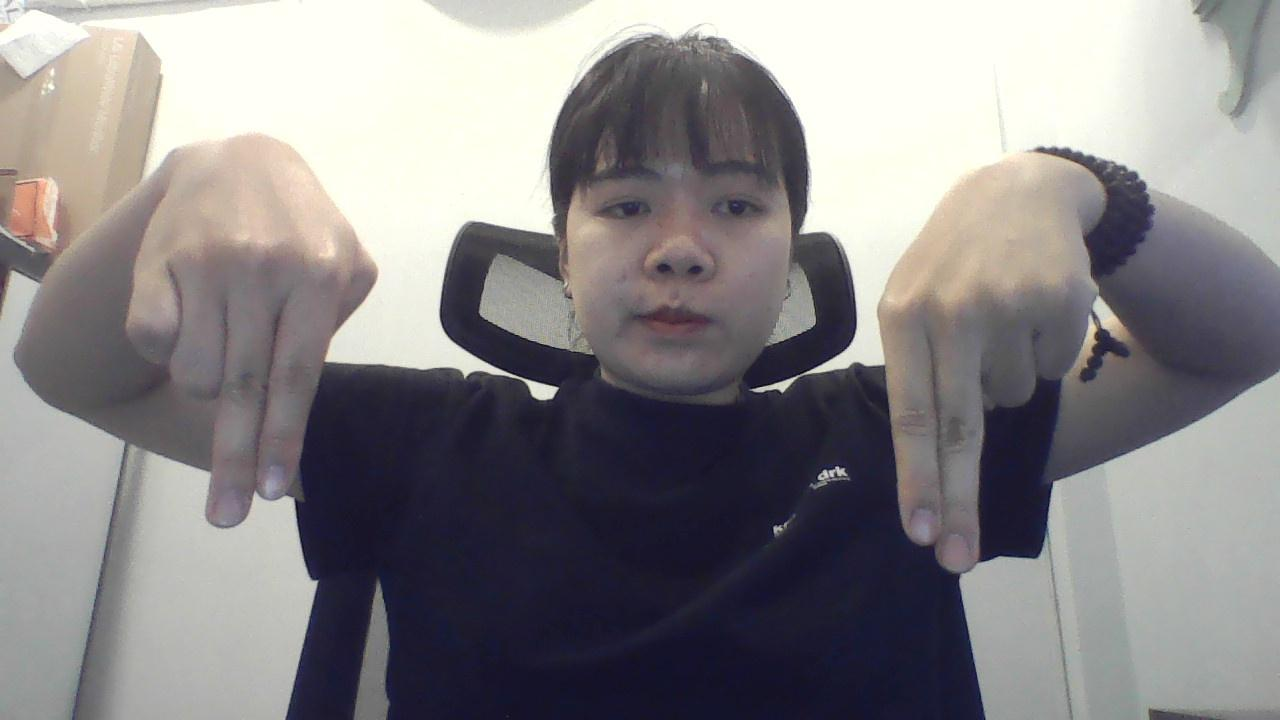N: (859, 144, 1102, 602), (128, 160, 386, 541)
